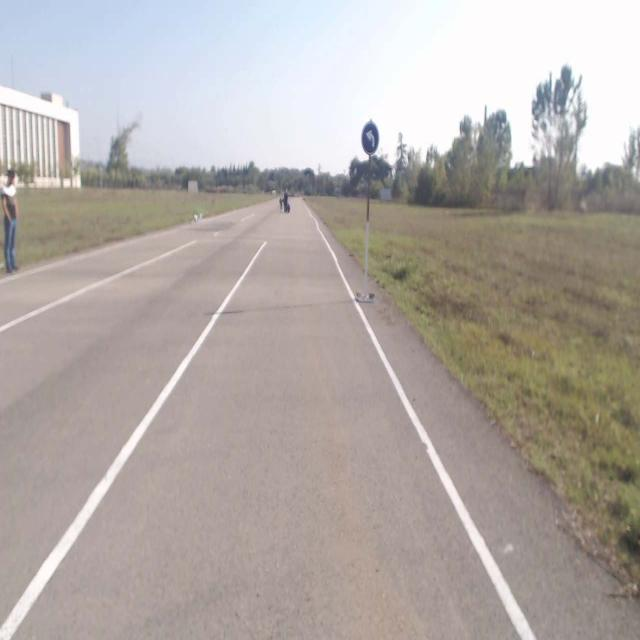sol: (361, 122, 379, 154)
